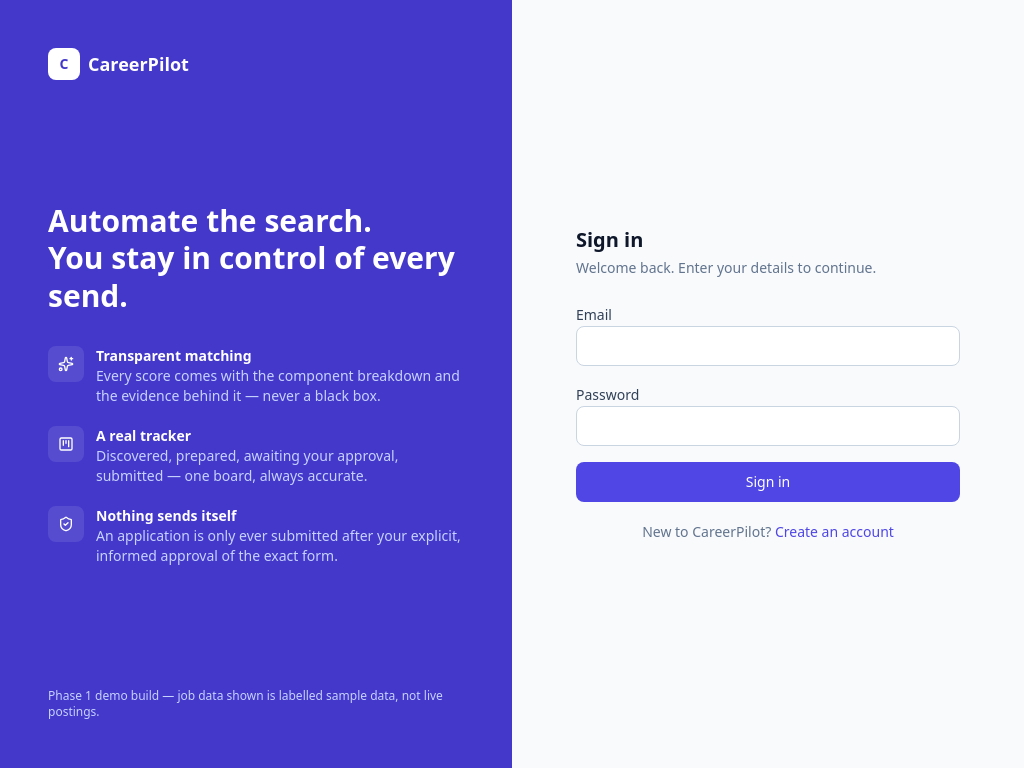
Scenario: Landing › switches to the registration form and enforces the minimum password length
Click the button "Create an account": (834, 532) [775,522,894,542]
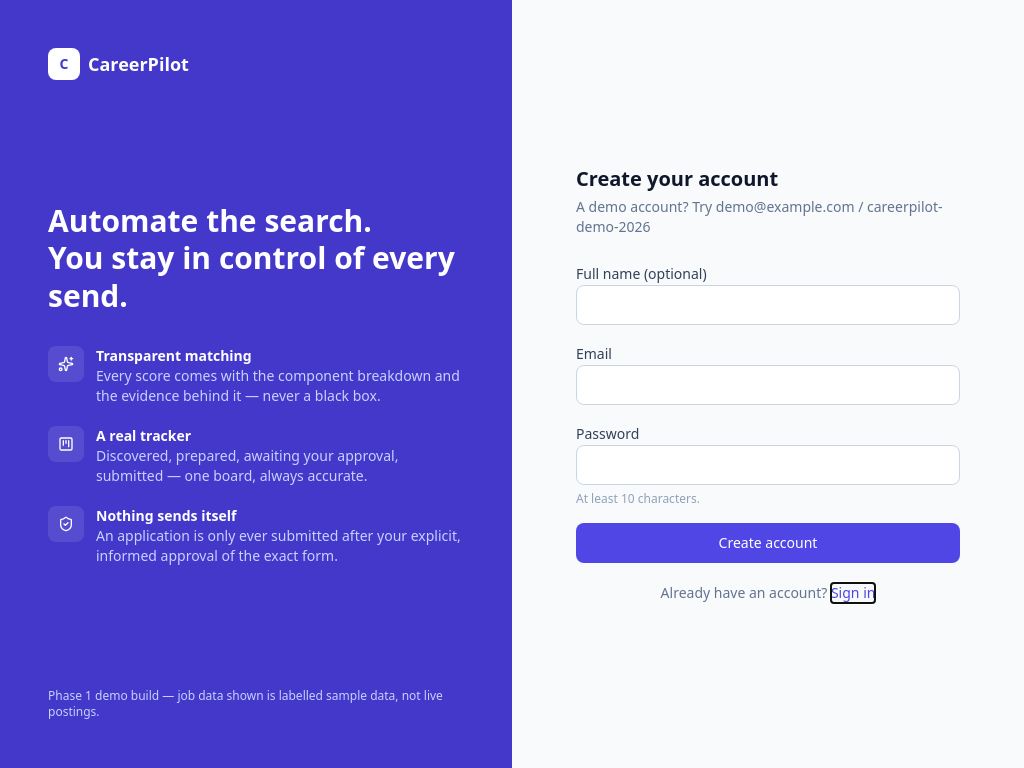
Expected: the heading "Create your account" is shown, [576,165,778,192]
